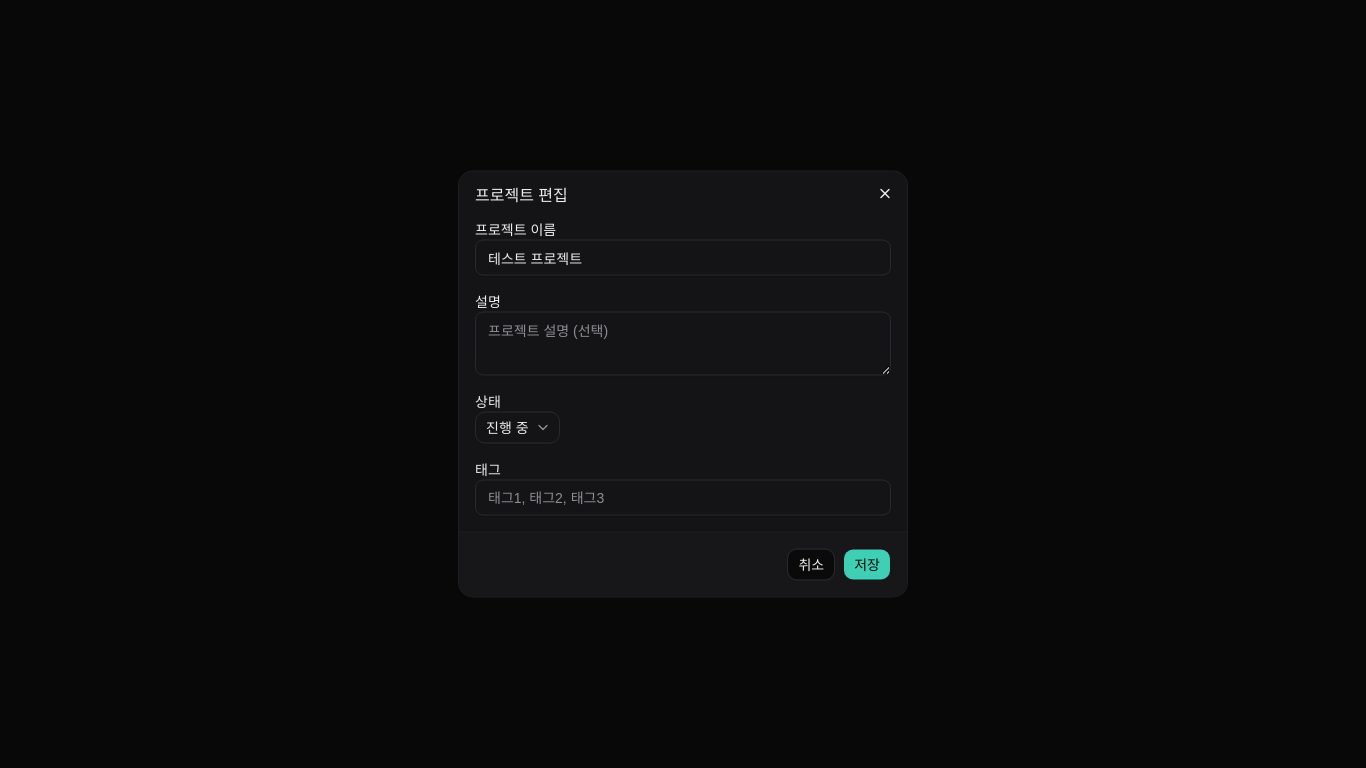
Test: EditProjectDialog — 상태 선택지 권한 › admin 은 보관 선택지를 본다
Click the dropdown with test id "edit-project-status" at point(517, 428), box 475,412 -> 560,444
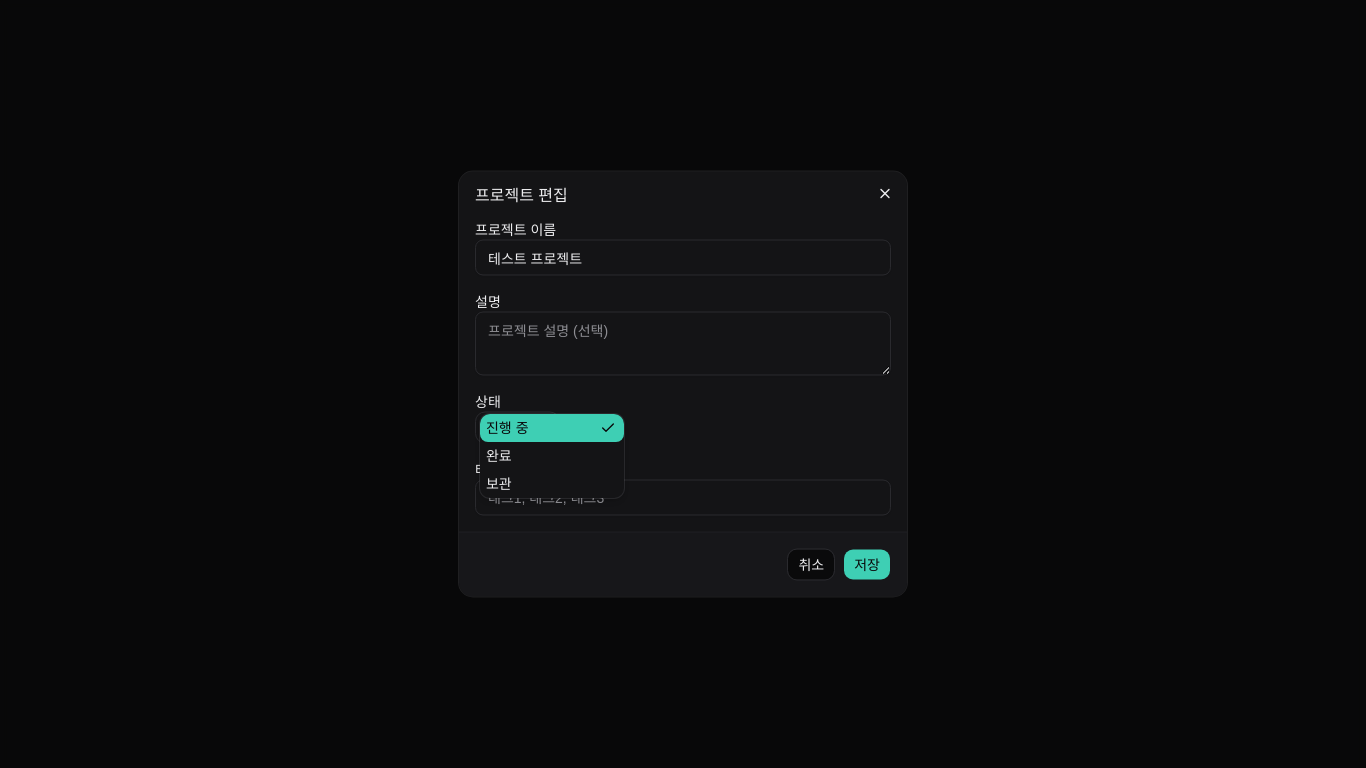
Now the option "보관" is shown, box 486,476 -> 512,492
